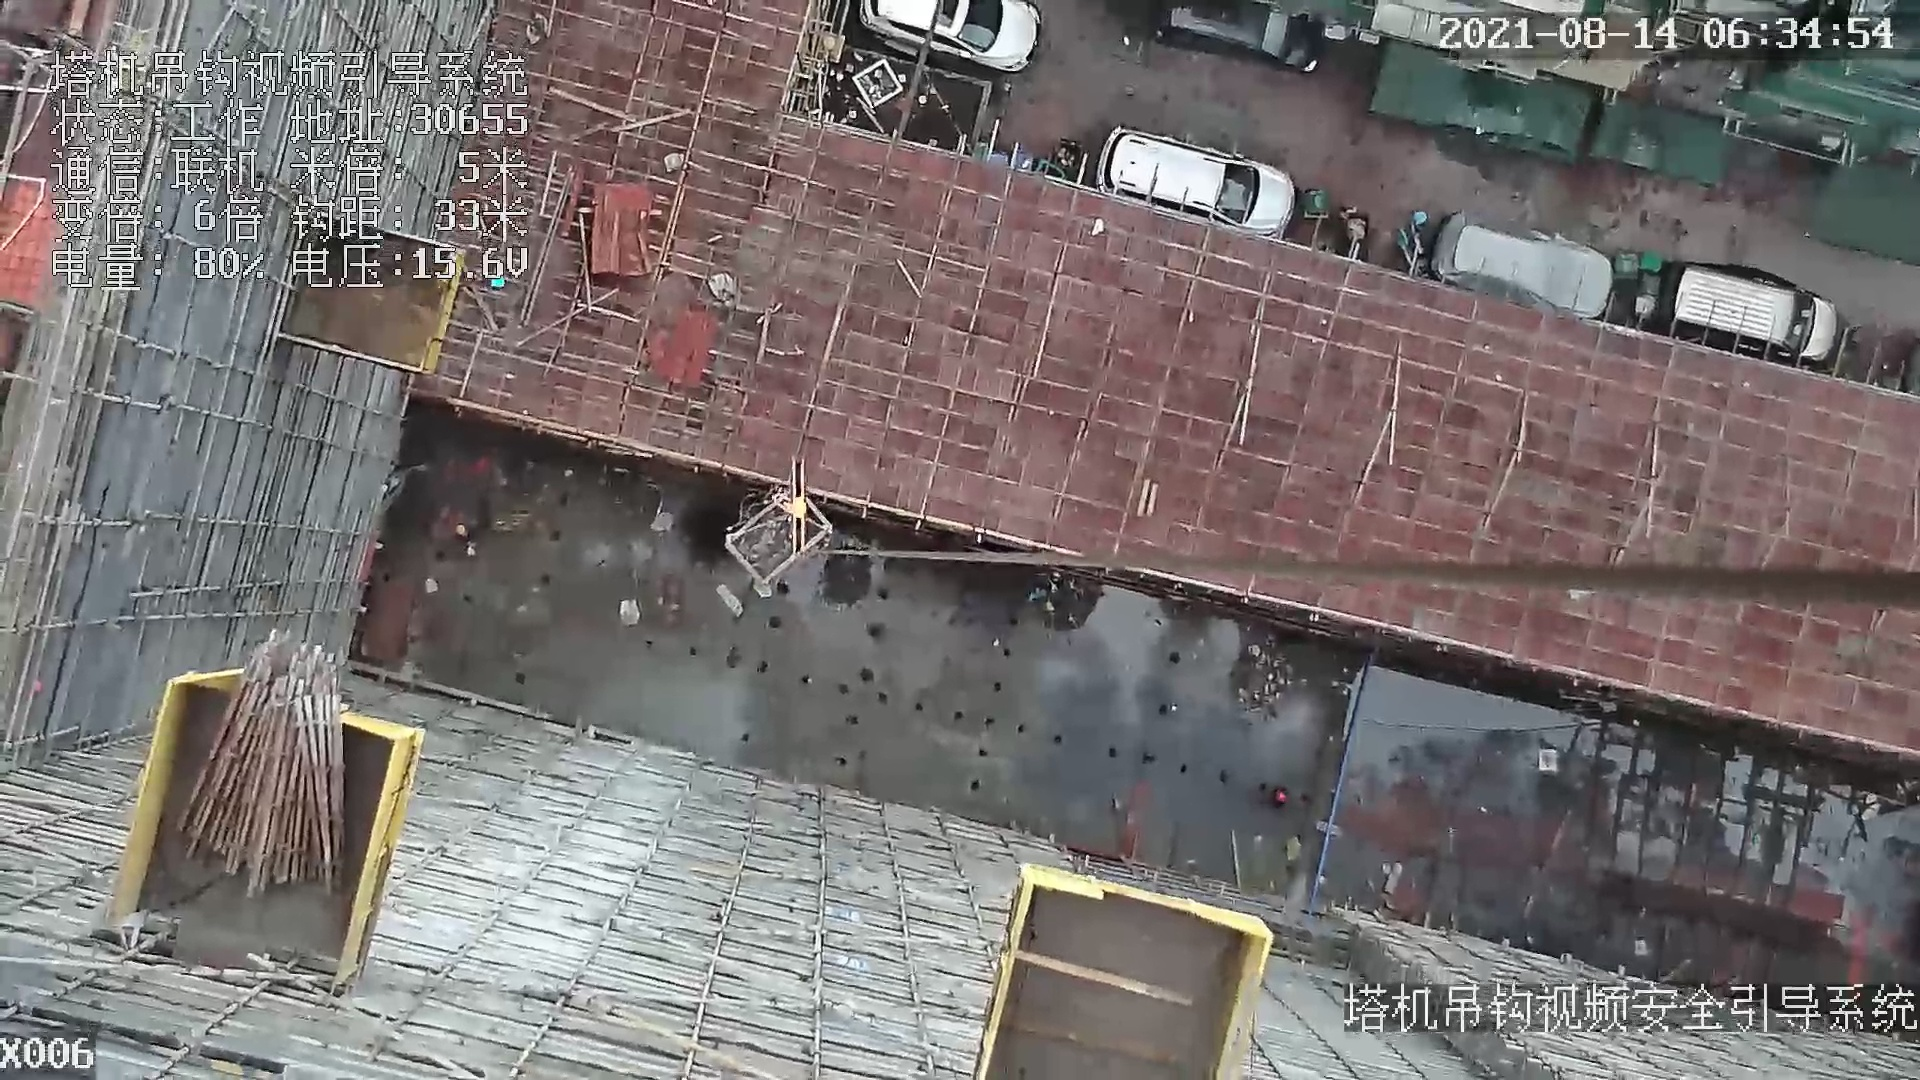hook: (777, 455, 810, 554)
hopper: (717, 489, 836, 578)
scaffold: (204, 636, 363, 910)
